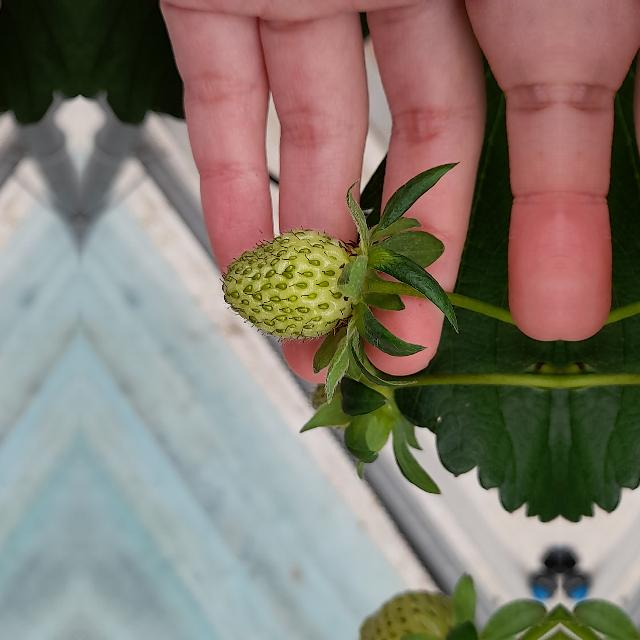Health_25: (222, 229, 356, 339)
